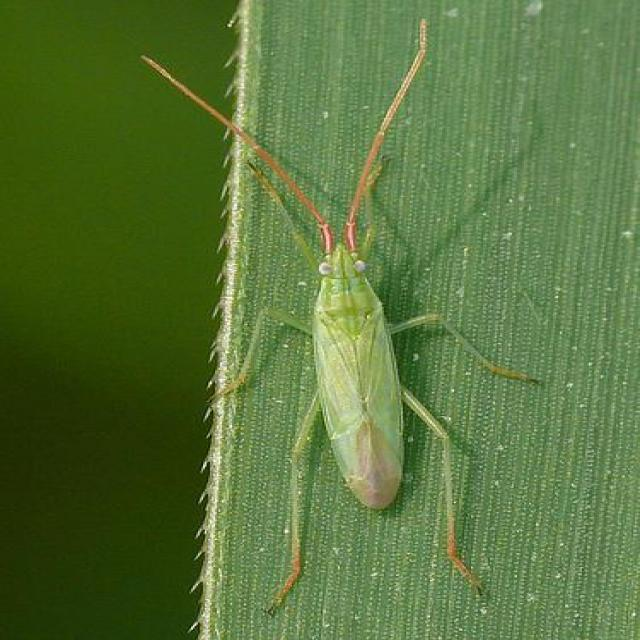Miridae-Adult-: (104, 13, 558, 593)
